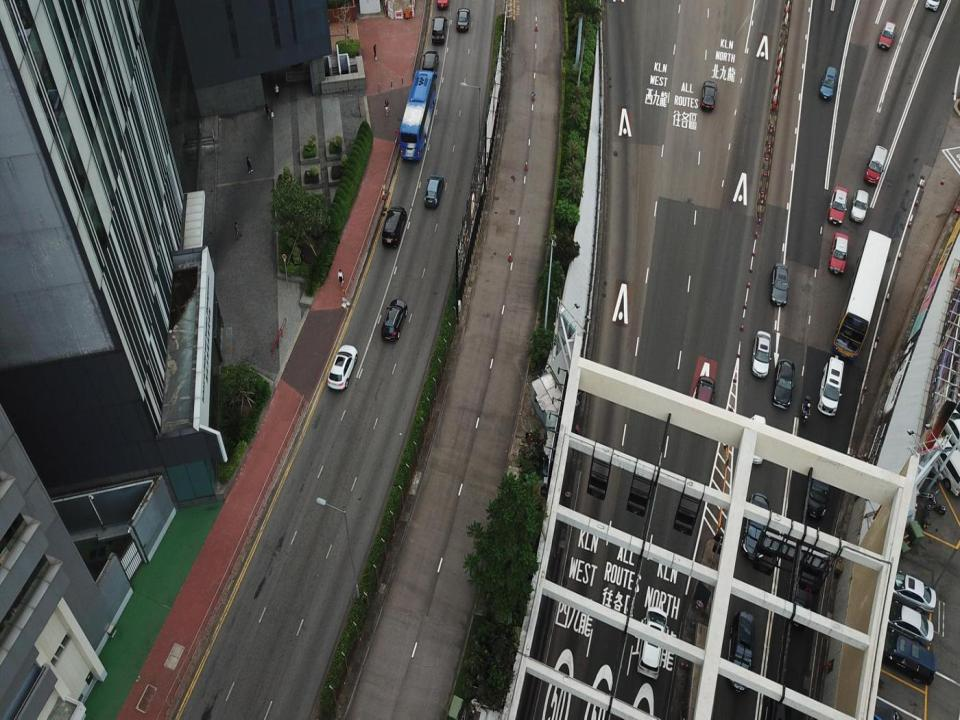bus: (832, 229, 891, 360), (399, 69, 438, 161)
car: (878, 601, 934, 648), (888, 570, 936, 613), (741, 494, 770, 559), (327, 345, 357, 390), (772, 358, 795, 410), (939, 404, 960, 459), (382, 300, 408, 341), (751, 330, 771, 378), (693, 374, 715, 416), (828, 232, 848, 275), (770, 263, 790, 306), (827, 185, 848, 224), (866, 699, 903, 719), (423, 176, 444, 206), (850, 190, 869, 223), (700, 80, 718, 112), (878, 21, 896, 49), (456, 7, 470, 32)
van: (880, 630, 936, 686), (787, 541, 815, 629), (728, 611, 755, 693), (636, 606, 666, 679), (928, 438, 960, 495), (817, 356, 844, 417), (806, 463, 831, 520), (742, 415, 767, 464), (382, 206, 407, 246), (863, 144, 887, 184), (818, 66, 836, 100), (432, 16, 447, 44), (421, 51, 439, 74)
